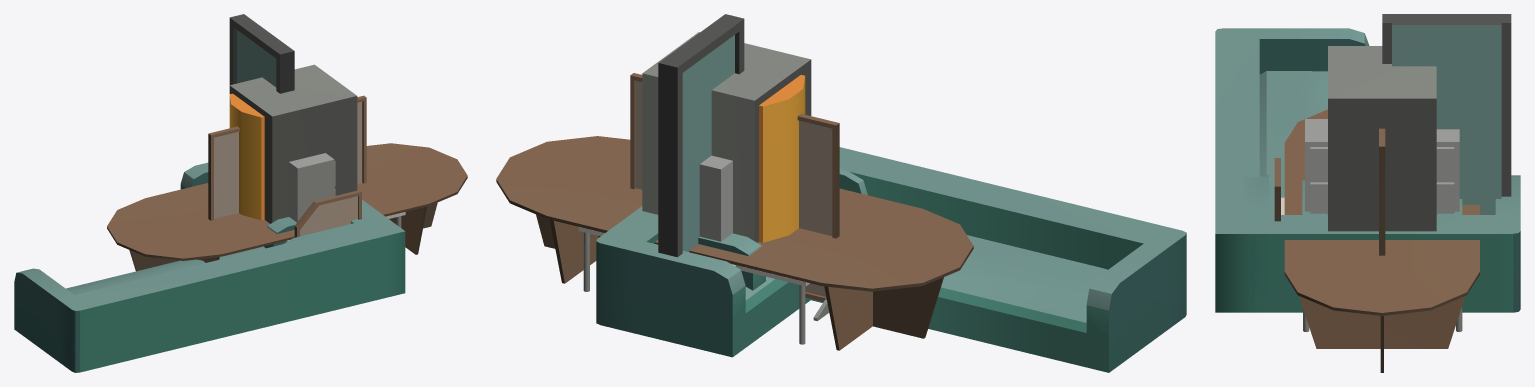
File: Office.FBX
3 views of the same model, side by side, from view 1: azimuth 30°, elevation 25°; view 2: azimuth 150°, elevation 25°; view 3: azimuth 270°, elevation 25° (orthographic). The views are drawn at different scales.
Parts seen in each view (by area): view 1: SofaCornerGreen, TableMeeting, VendingMachineOrange, Door, SeparatorLarge, FileLong, DeskSeparator, SofaGreen, ArmchairGreen; view 2: SofaCornerGreen, TableMeeting, SofaGreen, VendingMachineOrange, Door, SeparatorLarge, FileLong, DeskAngle, ArmchairGreen; view 3: SofaCornerGreen, TableMeeting, VendingMachineOrange, Door, SofaGreen, FileLong, SeparatorLarge, DeskSeparator, ArmchairGreen.
Boxes of the visible parts, x1,y1,x2,y2 form: SofaCornerGreen: [14, 220, 405, 372]; TableMeeting: [107, 143, 467, 271]; VendingMachineOrange: [229, 64, 357, 223]; Door: [229, 14, 294, 93]; SeparatorLarge: [208, 95, 366, 220]; FileLong: [289, 153, 335, 222]; DeskSeparator: [294, 190, 361, 237]; SofaGreen: [180, 162, 391, 243]; ArmchairGreen: [264, 217, 296, 248]; SofaCornerGreen: [630, 147, 1186, 372]; TableMeeting: [496, 136, 973, 350]; SofaGreen: [596, 163, 867, 357]; VendingMachineOrange: [642, 32, 811, 242]; Door: [658, 14, 744, 257]; SeparatorLarge: [630, 73, 839, 321]; FileLong: [699, 155, 732, 241]; DeskAngle: [578, 227, 809, 344]; ArmchairGreen: [698, 233, 765, 290]; SofaCornerGreen: [1215, 28, 1453, 312]; TableMeeting: [1284, 109, 1479, 372]; VendingMachineOrange: [1328, 46, 1436, 231]; Door: [1382, 14, 1511, 214]; SofaGreen: [1244, 175, 1520, 312]; FileLong: [1305, 119, 1459, 214]; SeparatorLarge: [1379, 128, 1385, 255]; DeskSeparator: [1274, 158, 1280, 221]; ArmchairGreen: [1302, 180, 1462, 214].
Bounding box in the file's own units: 1937 × 861 × 897.
1 material, 1 textured.
